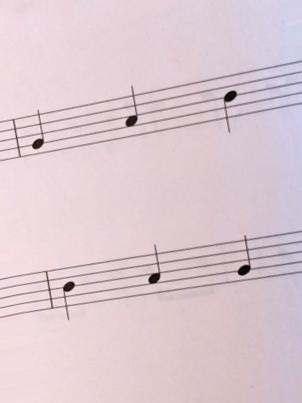A: (118, 78, 144, 143), (141, 241, 166, 301)
B: (216, 71, 242, 142), (57, 265, 81, 327)
G: (25, 107, 49, 164), (235, 228, 256, 291)
